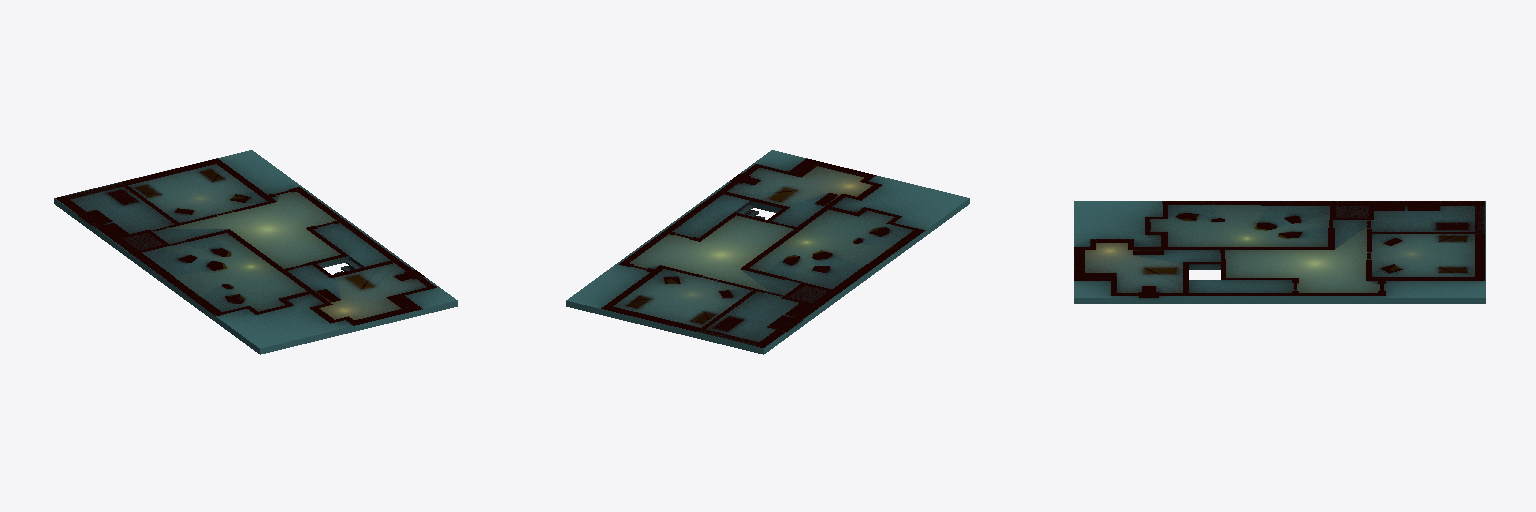
3 views of the same model, side by side, from view 1: azimuth 30°, elevation 25°; view 2: azimuth 150°, elevation 25°; view 3: azimuth 270°, elevation 25° (orthographic).
Parts seen in each view (by area): view 1: Cube.383_Cube.664; view 2: Cube.383_Cube.664; view 3: Cube.383_Cube.664.
Boxes of the visible parts, <box> form: Cube.383_Cube.664: <box>54,150,457,354</box>; Cube.383_Cube.664: <box>566,150,969,354</box>; Cube.383_Cube.664: <box>1074,201,1485,303</box>.
Size of the model in its own units: 7.74 by 0.5009 by 13.95.
2 materials, 1 textured.